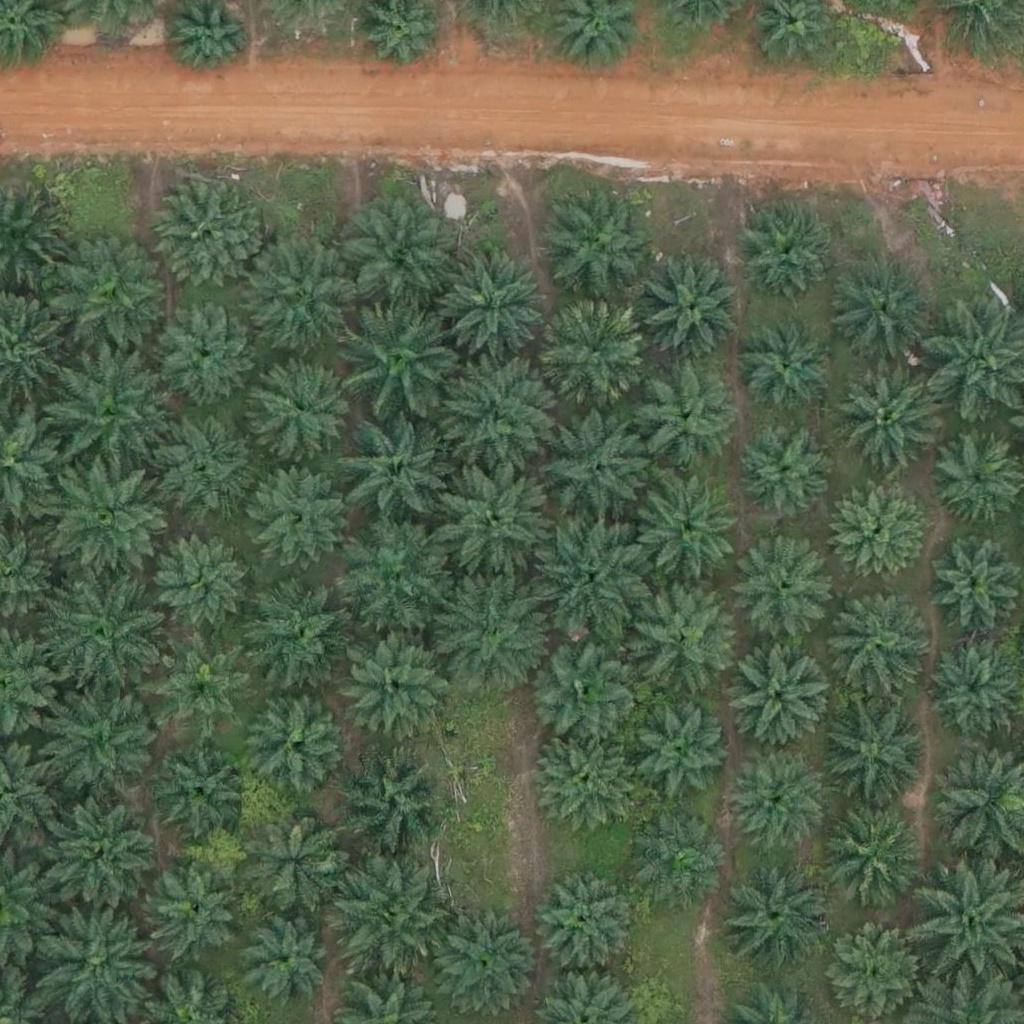Kelapa_Sawit: (428, 907, 541, 1021), (541, 185, 654, 299), (439, 249, 552, 363), (439, 458, 552, 572), (338, 518, 451, 632), (55, 459, 168, 573), (624, 576, 737, 689), (533, 513, 646, 626), (537, 299, 650, 412), (435, 363, 548, 476), (432, 577, 545, 690), (345, 300, 458, 413), (243, 574, 356, 687), (335, 870, 448, 983), (152, 181, 265, 294), (50, 242, 163, 355), (829, 254, 941, 368), (626, 365, 738, 479), (540, 409, 652, 523), (249, 238, 361, 352), (50, 688, 162, 802), (345, 638, 457, 751), (339, 413, 451, 526), (343, 201, 455, 314), (333, 741, 445, 854), (143, 409, 255, 522), (53, 357, 165, 470), (49, 577, 161, 690), (46, 794, 158, 907), (923, 635, 1023, 736), (827, 591, 927, 692), (829, 704, 929, 805), (821, 807, 921, 908), (729, 865, 829, 966), (723, 751, 823, 852), (730, 644, 830, 745), (736, 203, 836, 304), (639, 261, 739, 362), (637, 481, 737, 582), (629, 810, 729, 911), (539, 875, 639, 976), (534, 638, 634, 739), (251, 354, 351, 455), (251, 700, 351, 801), (247, 811, 347, 912), (154, 735, 254, 836), (148, 527, 248, 628), (153, 295, 253, 396), (838, 373, 938, 473), (826, 485, 926, 585), (737, 538, 837, 638), (734, 422, 834, 522), (737, 317, 837, 417), (630, 701, 730, 801), (538, 729, 638, 829), (250, 465, 350, 565), (147, 859, 247, 959), (153, 634, 253, 734), (924, 543, 1012, 631), (833, 926, 920, 1015), (934, 430, 1021, 518), (241, 917, 328, 1005)
